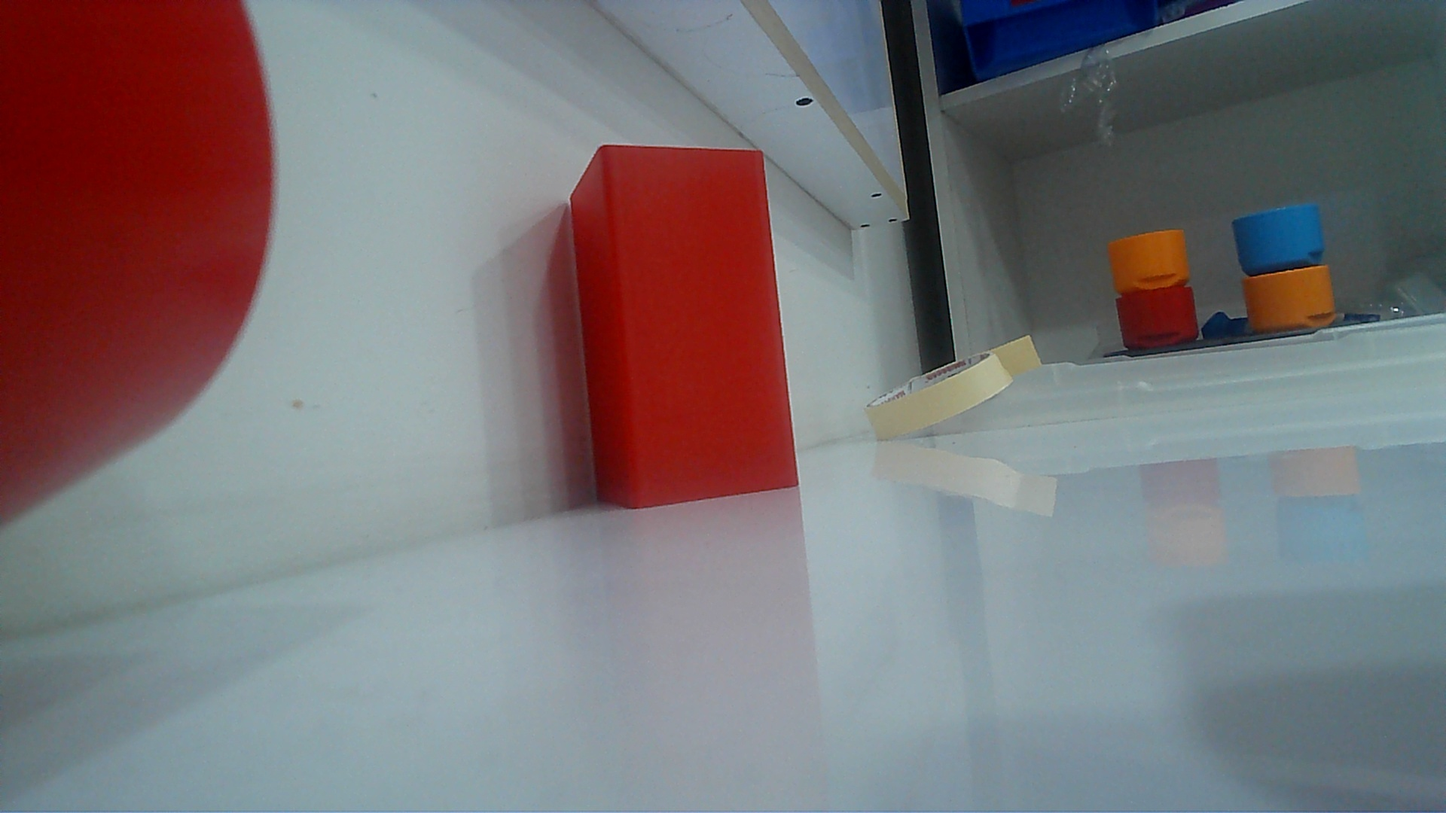red: (544, 135, 823, 522)
